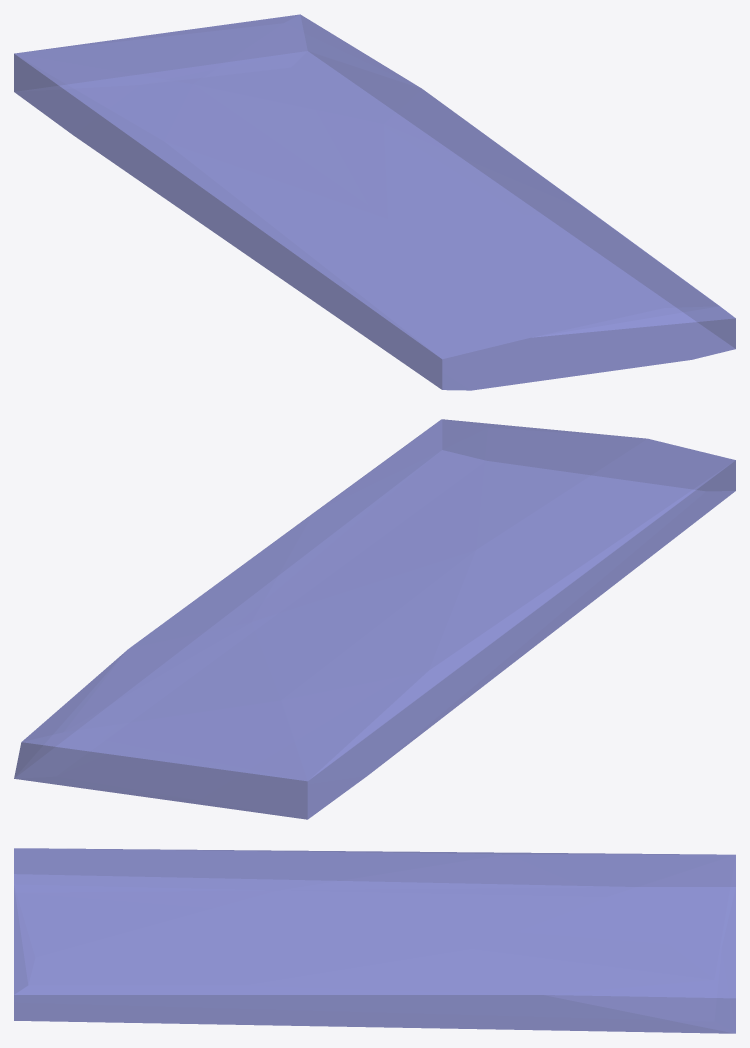
3 renders of one model, top to bottom at view 1: azimuth 30°, elevation 25°; view 2: azimuth 150°, elevation 25°; view 3: azimuth 270°, elevation 25°, orthographic. The views are drawn at different scales.
Parts seen in each view (by area): view 1: Shape_IndexedFaceSet.028_Shape_IndexedFaceSet.10738; view 2: Shape_IndexedFaceSet.028_Shape_IndexedFaceSet.10738; view 3: Shape_IndexedFaceSet.028_Shape_IndexedFaceSet.10738.
Part boxes in pixels (x1,y1,x2,y2): Shape_IndexedFaceSet.028_Shape_IndexedFaceSet.10738: [14, 14, 735, 390]; Shape_IndexedFaceSet.028_Shape_IndexedFaceSet.10738: [14, 419, 735, 819]; Shape_IndexedFaceSet.028_Shape_IndexedFaceSet.10738: [14, 848, 735, 1033].
Bounding box in the file's own units: 0.1321 × 0.033 × 0.3336.
